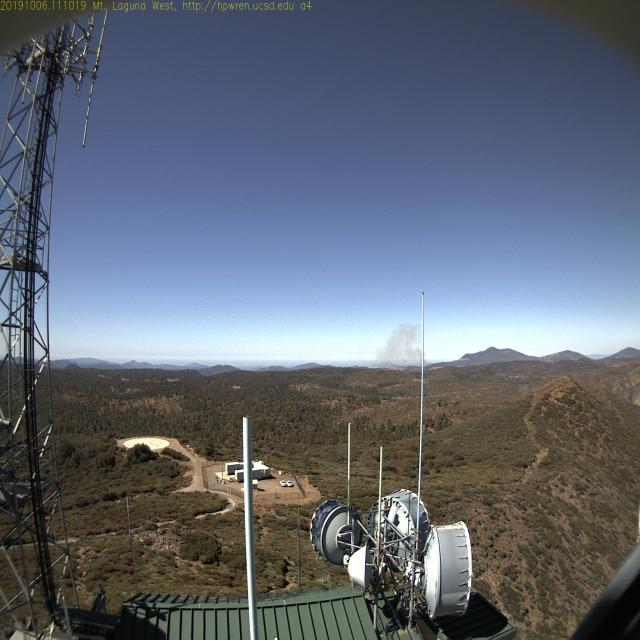smoke: (374, 317, 432, 368)
